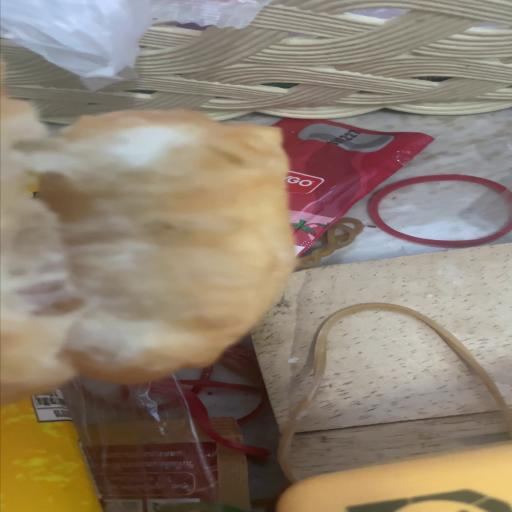street_golden_defect: (29, 109, 295, 383)
